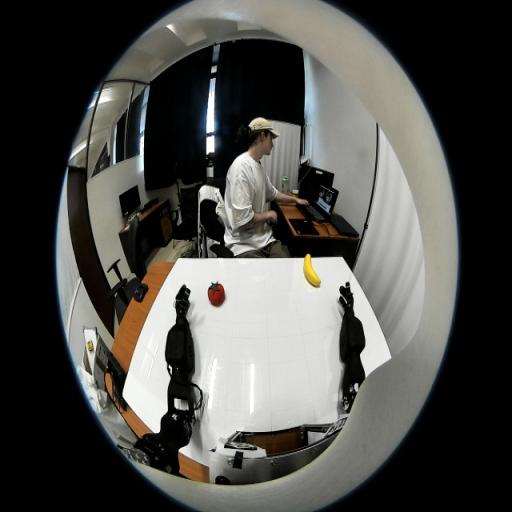Banana: (303, 253, 321, 287)
LeftHand: (176, 303, 186, 318)
RightHand: (344, 300, 354, 314)
Tomato: (207, 282, 225, 306)
